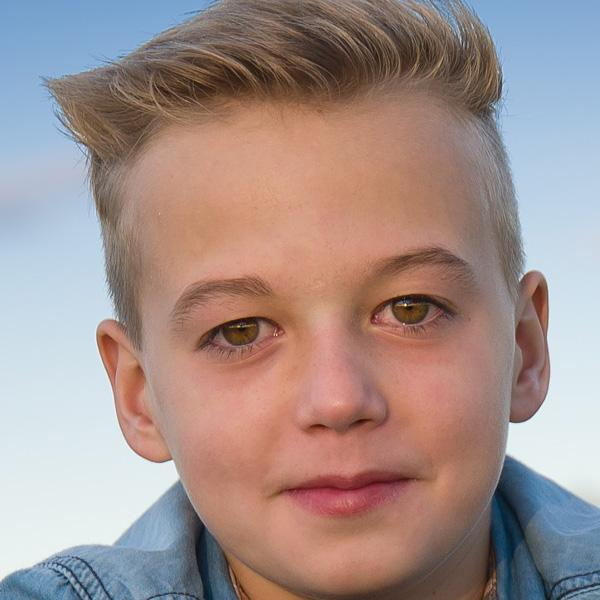Eyes: (184, 303, 292, 368), (358, 284, 466, 340)
